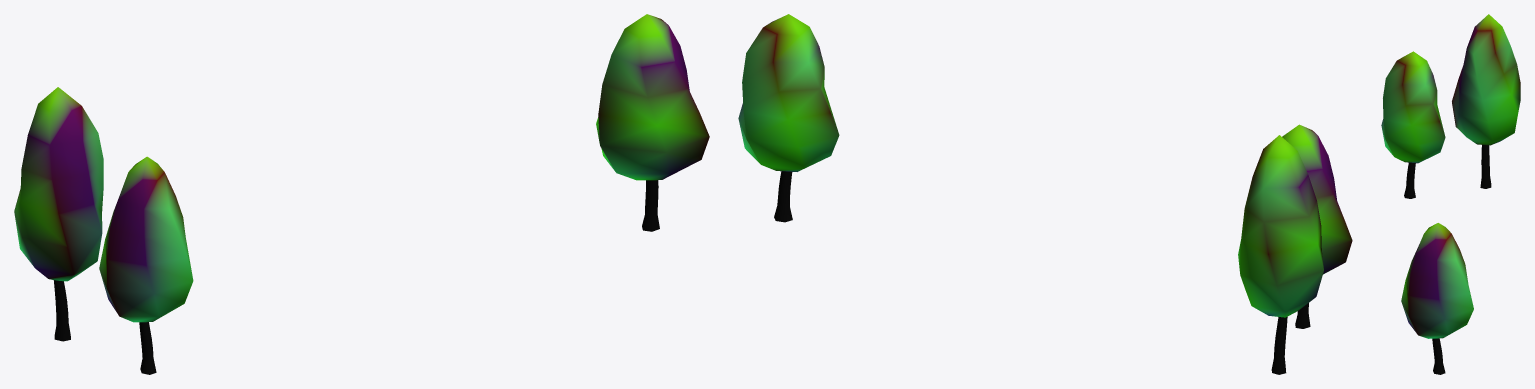
The model's file is testScene_trees.FBX.
The picture shows the model from 3 angles, left to right: view 1: azimuth 30°, elevation 25°; view 2: azimuth 150°, elevation 25°; view 3: azimuth 270°, elevation 25°; orthographic projection. The views are drawn at different scales.
Parts seen in each view (by area): view 1: testScene_trees; view 2: testScene_trees; view 3: testScene_trees.
Part boxes in pixels (<box>): testScene_trees: <box>14,14,709,374</box>; testScene_trees: <box>738,14,1352,374</box>; testScene_trees: <box>1381,14,1520,374</box>.
Bounding box in the file's own units: 29.68 × 11.07 × 8.14.
